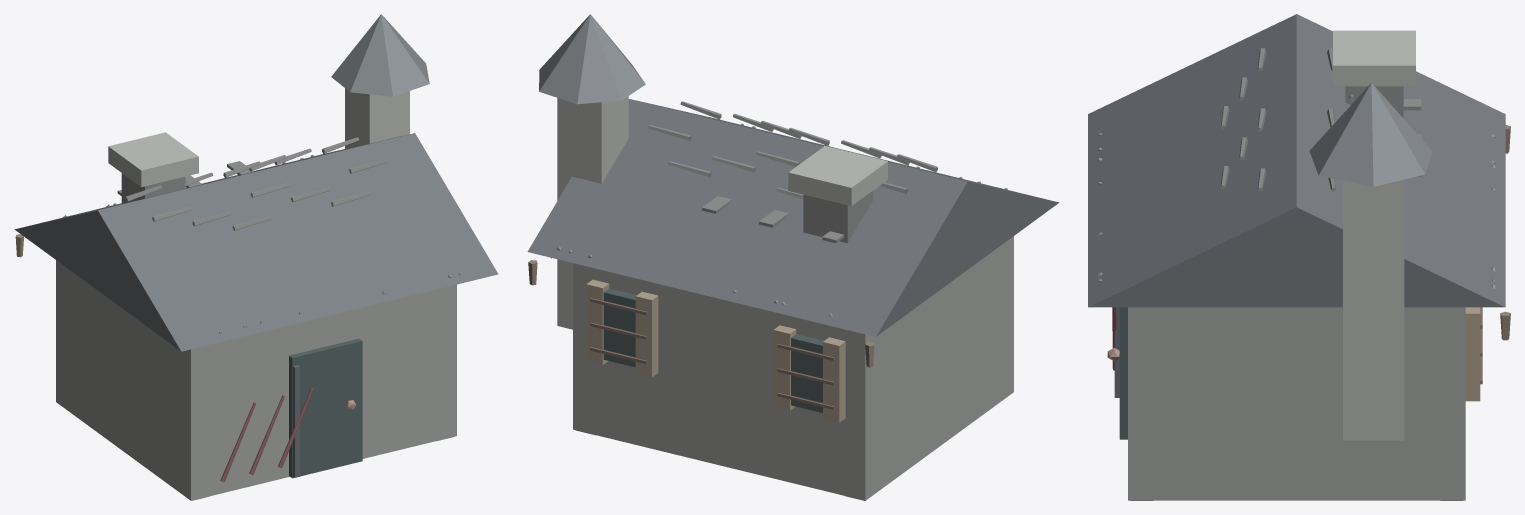
Rendered from plague_tollhouse.glb.
3 views of the same model, side by side, from view 1: azimuth 30°, elevation 25°; view 2: azimuth 150°, elevation 25°; view 3: azimuth 270°, elevation 25° (orthographic). The views are drawn at different scales.
Visible parts, largest first — view 1: plague_tollhouse_material_06, plague_tollhouse_material_00, plague_tollhouse_material_02, plague_tollhouse_material_11, plague_tollhouse_material_08, plague_tollhouse_material_07, plague_tollhouse_material_12, plague_tollhouse_material_09, plague_tollhouse_material_03; view 2: plague_tollhouse_material_00, plague_tollhouse_material_06, plague_tollhouse_material_11, plague_tollhouse_material_05, plague_tollhouse_material_08, plague_tollhouse_material_07, plague_tollhouse_material_02, plague_tollhouse_material_01, plague_tollhouse_material_09; view 3: plague_tollhouse_material_06, plague_tollhouse_material_00, plague_tollhouse_material_11, plague_tollhouse_material_08, plague_tollhouse_material_07, plague_tollhouse_material_05, plague_tollhouse_material_02.
Boxes of the visible parts, box(x1,y1,x2,y2) form: plague_tollhouse_material_06: box(14, 133, 498, 351); plague_tollhouse_material_00: box(56, 260, 456, 500); plague_tollhouse_material_02: box(289, 338, 362, 478); plague_tollhouse_material_11: box(108, 88, 409, 187); plague_tollhouse_material_08: box(125, 14, 429, 201); plague_tollhouse_material_07: box(63, 137, 461, 333); plague_tollhouse_material_12: box(220, 388, 313, 482); plague_tollhouse_material_09: box(152, 148, 311, 221); plague_tollhouse_material_03: box(293, 365, 299, 477); plague_tollhouse_material_00: box(573, 236, 1013, 500); plague_tollhouse_material_06: box(527, 99, 1059, 336); plague_tollhouse_material_11: box(557, 96, 887, 329); plague_tollhouse_material_05: box(586, 279, 845, 422); plague_tollhouse_material_08: box(539, 14, 907, 194); plague_tollhouse_material_07: box(551, 101, 1007, 316); plague_tollhouse_material_02: box(603, 288, 823, 412); plague_tollhouse_material_01: box(576, 298, 864, 500); plague_tollhouse_material_09: box(668, 127, 937, 199); plague_tollhouse_material_06: box(1088, 14, 1505, 307); plague_tollhouse_material_00: box(1128, 307, 1465, 500); plague_tollhouse_material_11: box(1333, 30, 1415, 440); plague_tollhouse_material_08: box(1309, 48, 1432, 186); plague_tollhouse_material_07: box(1098, 77, 1495, 288); plague_tollhouse_material_05: box(1465, 307, 1480, 401); plague_tollhouse_material_02: box(1119, 307, 1127, 439).
Bounding box in the file's own units: 3.37 × 3.11 × 2.76.
